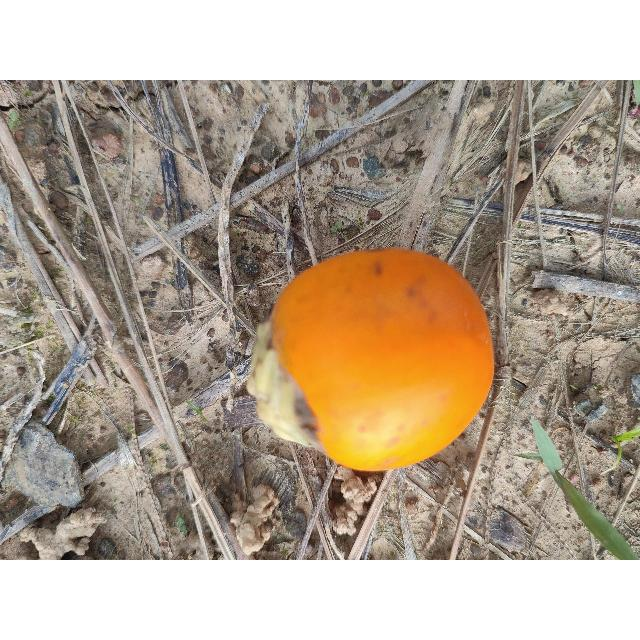good: (249, 249, 496, 474)
